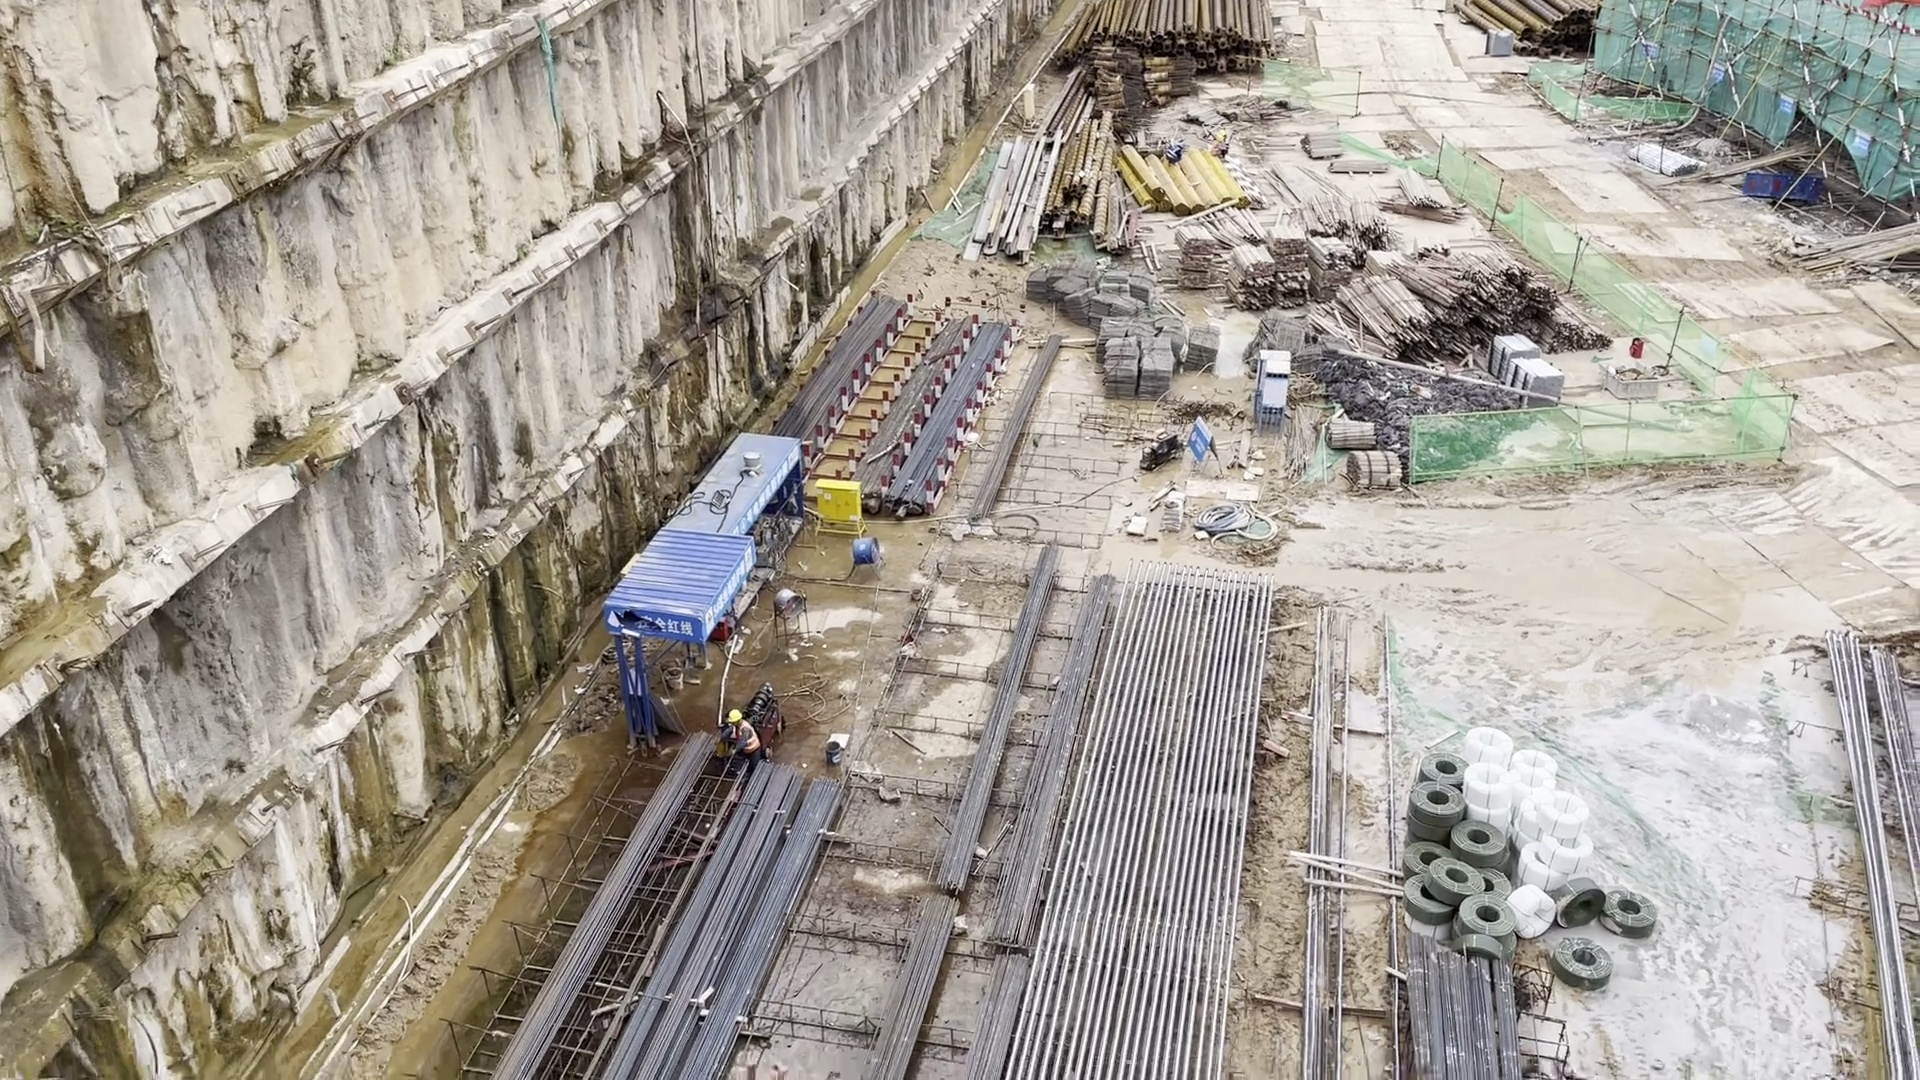brick: (1510, 360, 1565, 405), (1487, 338, 1534, 373)
ebox: (808, 479, 872, 538)
helmet: (724, 709, 745, 724)
hopper: (1739, 169, 1830, 202)
rebar: (913, 564, 1269, 1080), (425, 724, 833, 1080), (760, 297, 1000, 522), (1834, 637, 1920, 1080), (1400, 922, 1506, 1080)
slogan: (608, 607, 704, 641)
vest: (732, 727, 760, 758)
